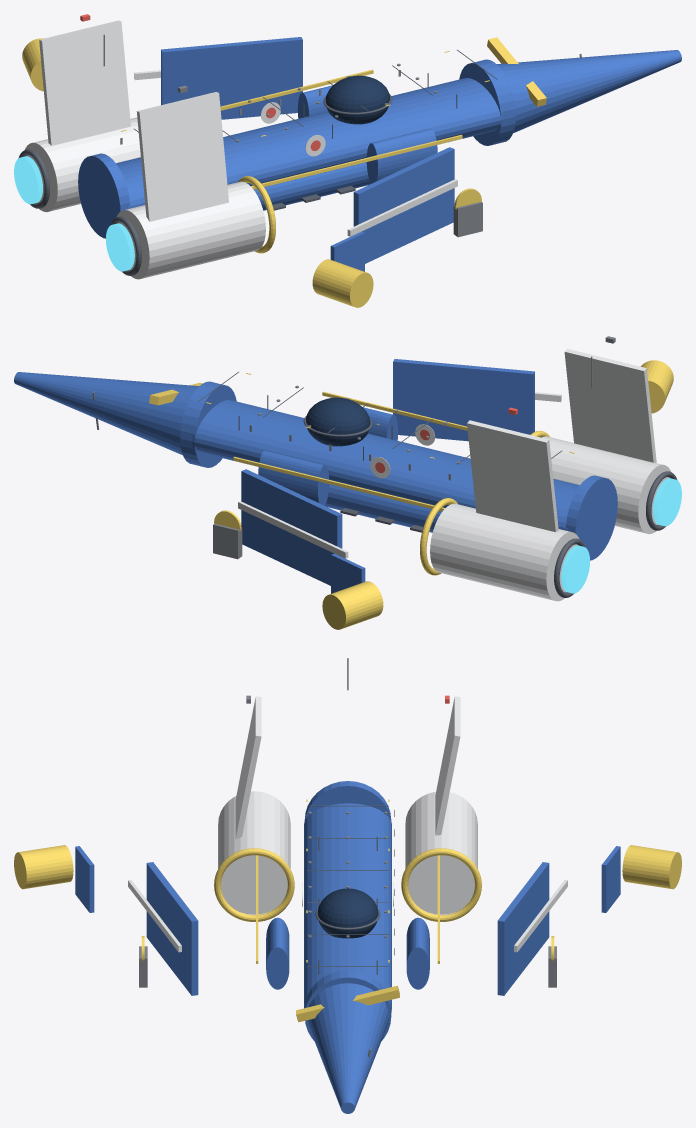
File: starfighter_anime_v5.gltf
3 renders of one model, top to bottom at view 1: azimuth 30°, elevation 25°; view 2: azimuth 150°, elevation 25°; view 3: azimuth 270°, elevation 25°, orthographic.
Parts seen in each view (by area): view 1: Cylinder, Cube.002, Cube.003, Cube.001, Cylinder.003, Cone, Cube, Cylinder.004, Cylinder.006, Sphere, Cylinder.007, Cylinder.001 (+15 smaller); view 2: Cylinder, Cube, Cylinder.004, Cube.002, Cube.003, Cone, Cube.001, Cylinder.003, Cylinder.006, Sphere, Cylinder.007, Cylinder.002 (+14 smaller); view 3: Cylinder, Cylinder.004, Cylinder.003, Cone, Cube, Cube.001, Sphere, Cylinder.001, Cylinder.002, Cube.002, Cube.003, Torus (+8 smaller).
Part boxes in pixels (bbox=[...]): Cylinder: bbox=[116, 78, 501, 208]; Cube.002: bbox=[136, 92, 228, 221]; Cube.003: bbox=[39, 20, 130, 145]; Cube.001: bbox=[161, 37, 302, 119]; Cylinder.003: bbox=[116, 181, 265, 279]; Cone: bbox=[460, 50, 681, 142]; Cube: bbox=[353, 147, 454, 263]; Cylinder.004: bbox=[25, 117, 140, 212]; Cylinder.006: bbox=[78, 153, 130, 238]; Sphere: bbox=[325, 75, 389, 124]; Cylinder.007: bbox=[254, 162, 370, 210]; Cylinder.001: bbox=[312, 259, 373, 307]; Cylinder: bbox=[194, 400, 579, 530]; Cube: bbox=[393, 359, 534, 441]; Cylinder.004: bbox=[430, 503, 579, 601]; Cube.002: bbox=[564, 349, 656, 462]; Cube.003: bbox=[467, 420, 558, 532]; Cone: bbox=[14, 372, 236, 464]; Cube.001: bbox=[241, 469, 342, 585]; Cylinder.003: bbox=[542, 436, 670, 534]; Cylinder.006: bbox=[565, 475, 617, 560]; Sphere: bbox=[306, 397, 370, 446]; Cylinder.007: bbox=[325, 484, 441, 532]; Cylinder.002: bbox=[322, 581, 383, 629]; Cylinder: bbox=[304, 803, 391, 1008]; Cylinder.004: bbox=[405, 791, 477, 914]; Cylinder.003: bbox=[218, 791, 290, 914]; Cone: bbox=[304, 983, 391, 1113]; Cube: bbox=[146, 862, 198, 995]; Cube.001: bbox=[497, 862, 549, 995]; Sphere: bbox=[317, 888, 378, 938]; Cylinder.001: bbox=[14, 845, 73, 889]; Cylinder.002: bbox=[622, 845, 681, 889]; Cube.002: bbox=[235, 696, 261, 839]; Cube.003: bbox=[435, 696, 460, 835]; Torus: bbox=[214, 848, 294, 921].
Size of the model in its own units: 12.2 by 4.02 by 11.42.
